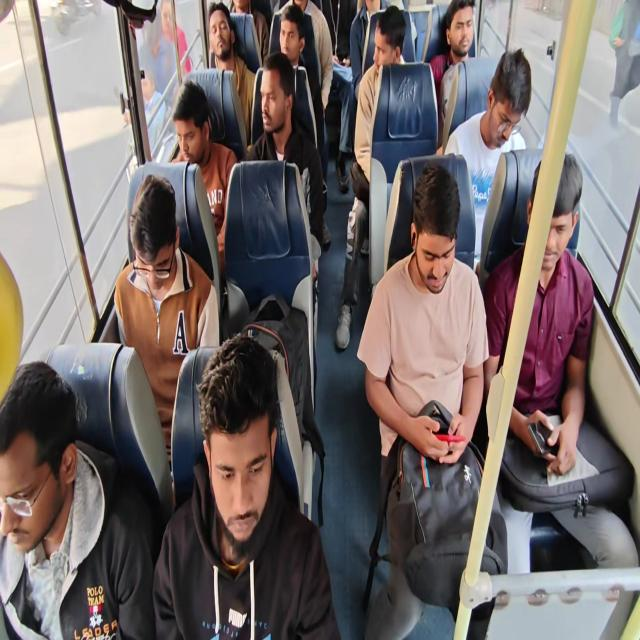person: (205, 355, 307, 640), (0, 305, 60, 635), (133, 169, 212, 408), (422, 188, 490, 336), (514, 160, 578, 303), (249, 63, 311, 197), (177, 88, 232, 200), (482, 39, 522, 154), (197, 3, 247, 82), (283, 12, 332, 85), (318, 0, 360, 84), (441, 4, 484, 71), (373, 14, 408, 76), (227, 0, 270, 25), (361, 0, 391, 24), (280, 0, 309, 12)
